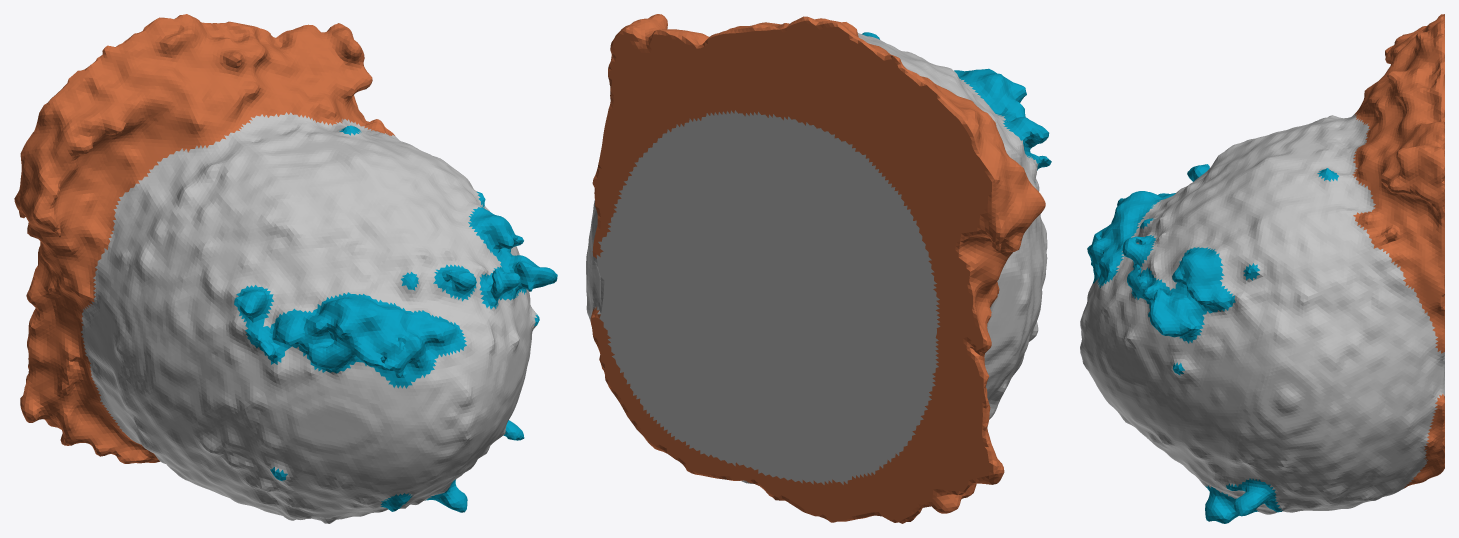
The picture shows the model from 3 angles, left to right: view 1: azimuth 30°, elevation 25°; view 2: azimuth 150°, elevation 25°; view 3: azimuth 270°, elevation 25°; orthographic projection. The views are drawn at different scales.
Bounding box in the file's own units: 103 × 105 × 81.23.
